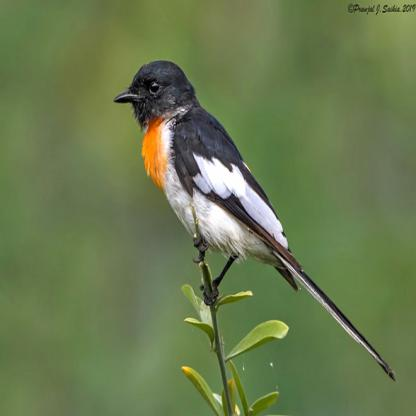Burung: (113, 60, 396, 382)
